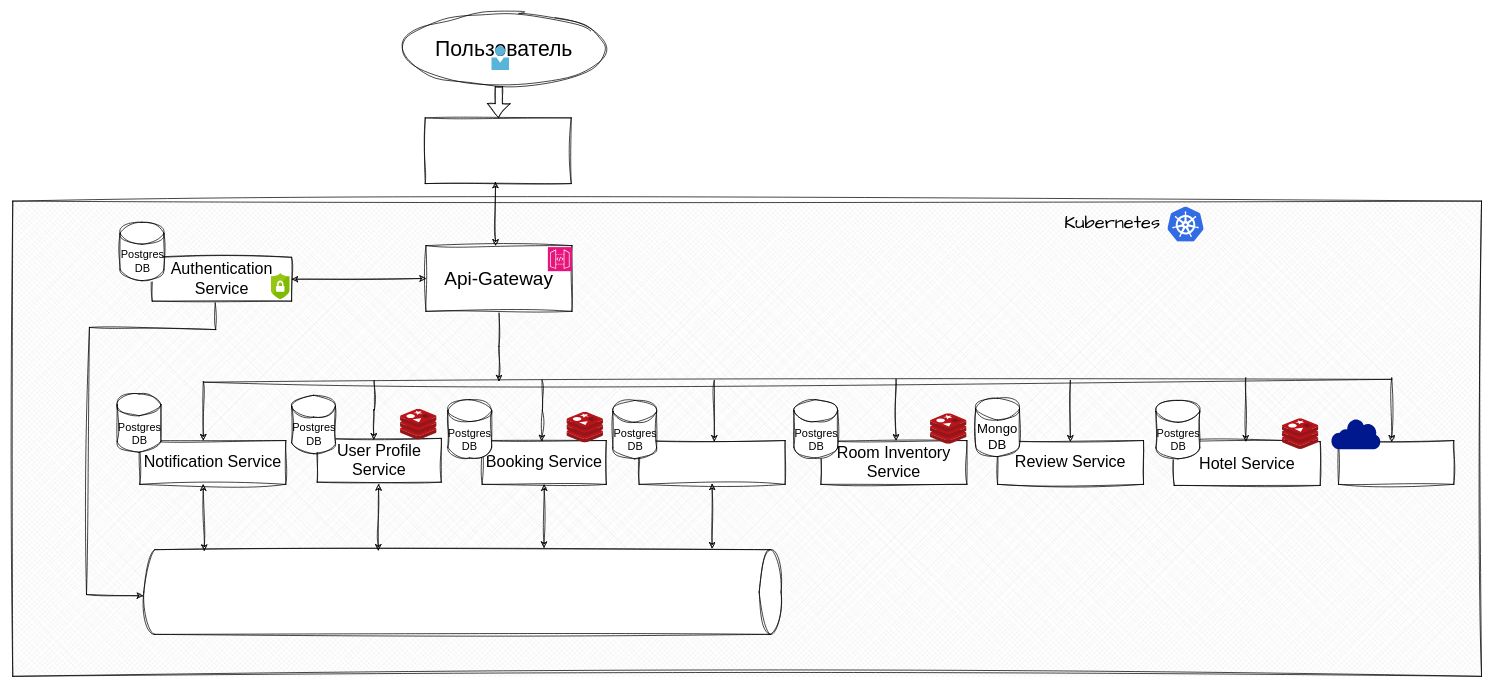
Image size: 1494x689. Some labels were removed from this diagram. Each missing label, with the centre of its shape:
"File Service" goes at point 1396,462.
"Kafka" goes at point 462,591.
"MinIO" goes at point 1355,433.
"Payment Service" goes at point 711,462.
"Web UI (Frontend)" goes at point 497,150.
